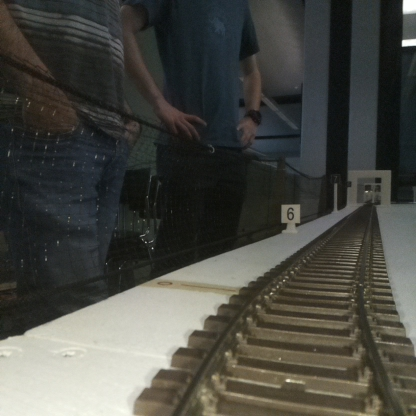white-stop-6: (281, 204, 300, 235)
